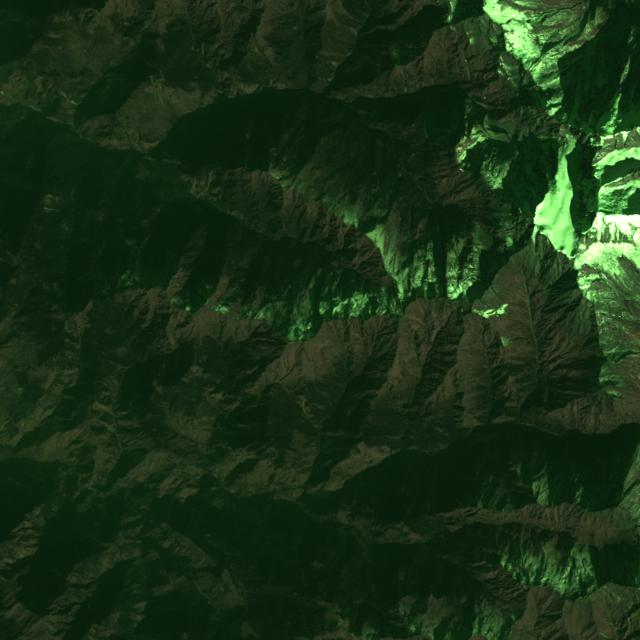landslides: (226, 278, 248, 300), (594, 6, 611, 34), (36, 82, 51, 104), (59, 91, 78, 108), (199, 174, 213, 197), (415, 92, 428, 114), (201, 187, 219, 199), (189, 176, 197, 197), (438, 107, 447, 122), (158, 86, 165, 105), (62, 479, 67, 503), (43, 207, 62, 213)
